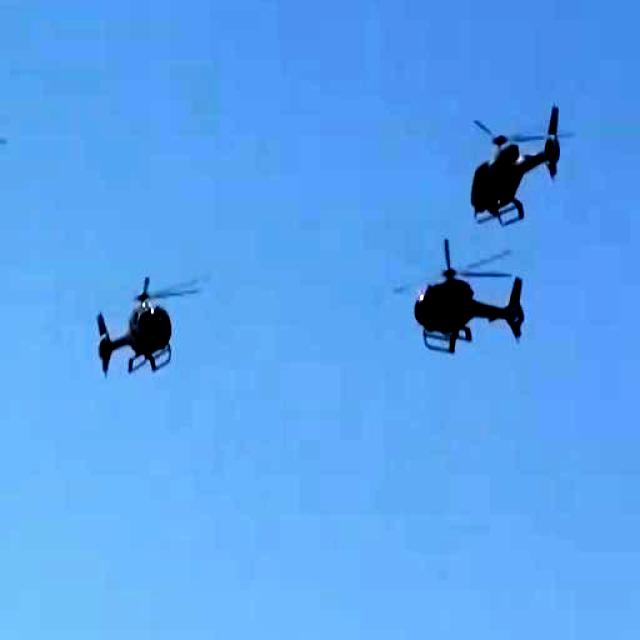drone: (392, 222, 548, 395), (452, 92, 589, 225), (85, 255, 191, 381)
